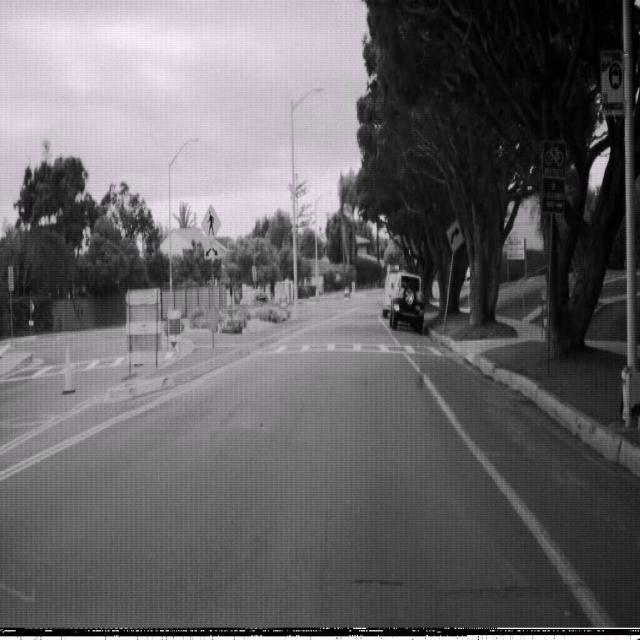pedestrianCrossing: (200, 201, 222, 244)
